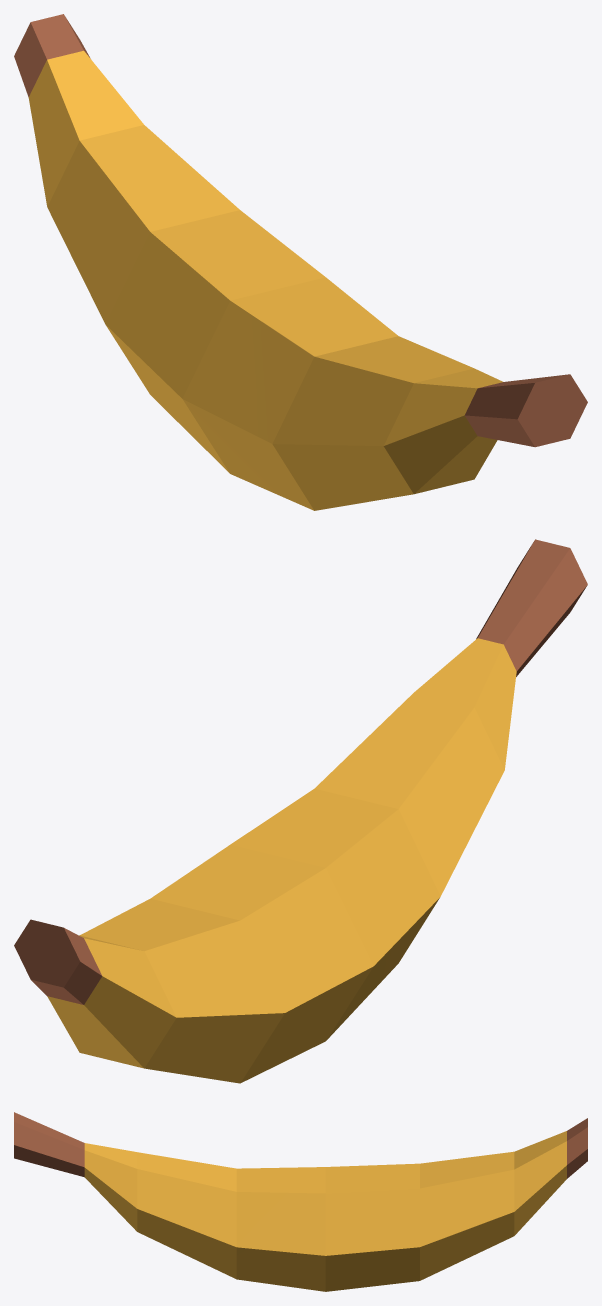
File: banana.fbx
3 views of the same model, one above another, from view 1: azimuth 30°, elevation 25°; view 2: azimuth 150°, elevation 25°; view 3: azimuth 270°, elevation 25° (orthographic). The views are drawn at different scales.
Visible parts, largest first — view 1: banana; view 2: banana; view 3: banana.
Boxes of the visible parts, <box> form: banana: <box>14,14,587,510</box>; banana: <box>14,539,587,1083</box>; banana: <box>14,1112,587,1291</box>.
Bounding box in the file's own units: 1.38 × 1.96 × 6.3.
